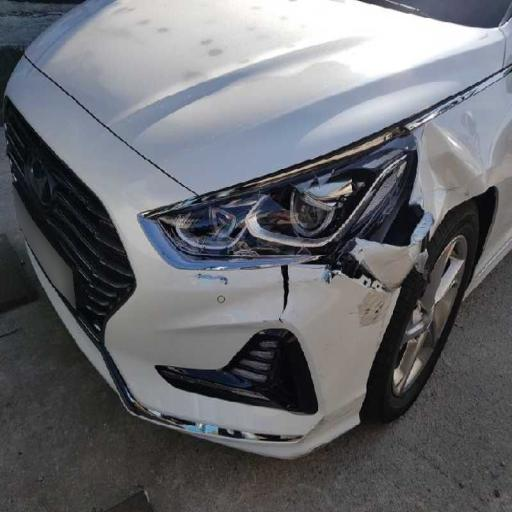broken: (260, 128, 429, 347)
scratch: (180, 262, 250, 327)
